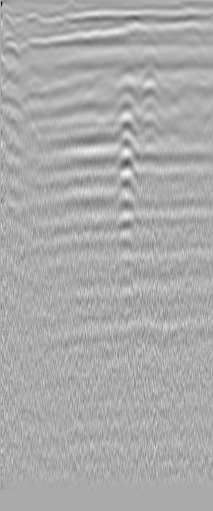오수: (25, 10, 45, 30)
우수: (175, 20, 200, 46)
